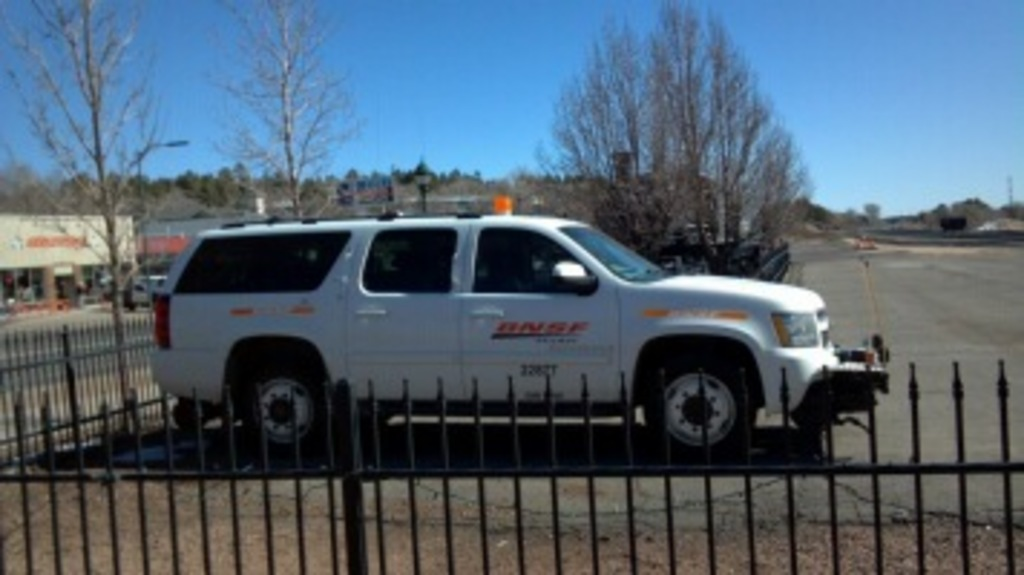Tree: (510, 2, 822, 280), (0, 0, 177, 435), (197, 0, 369, 220)
